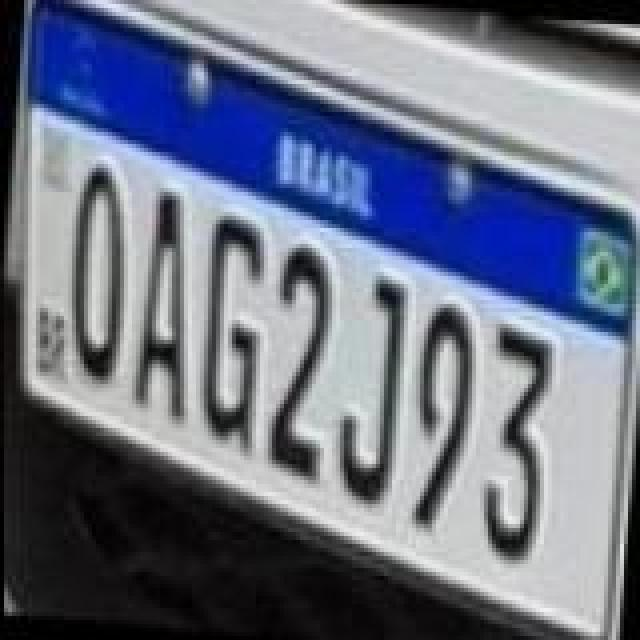2: (262, 240, 342, 488)
3: (476, 314, 564, 566)
9: (406, 296, 490, 540)
A: (130, 186, 210, 426)
G: (192, 208, 276, 452)
J: (326, 268, 410, 508)
O: (58, 160, 138, 384)
